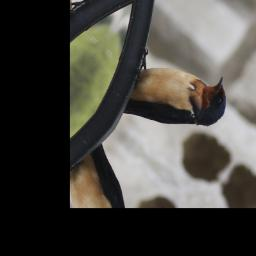Swallow: (104, 21, 241, 171)
